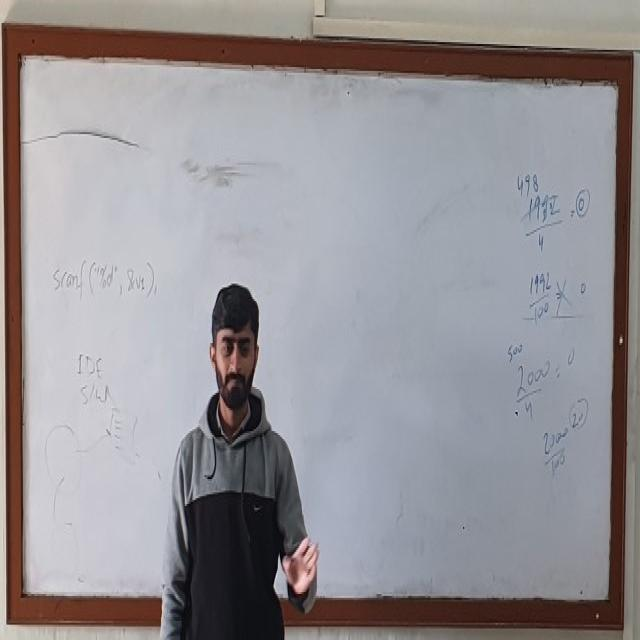Instructor: (172, 274, 295, 640)
White-board: (10, 39, 623, 617)
